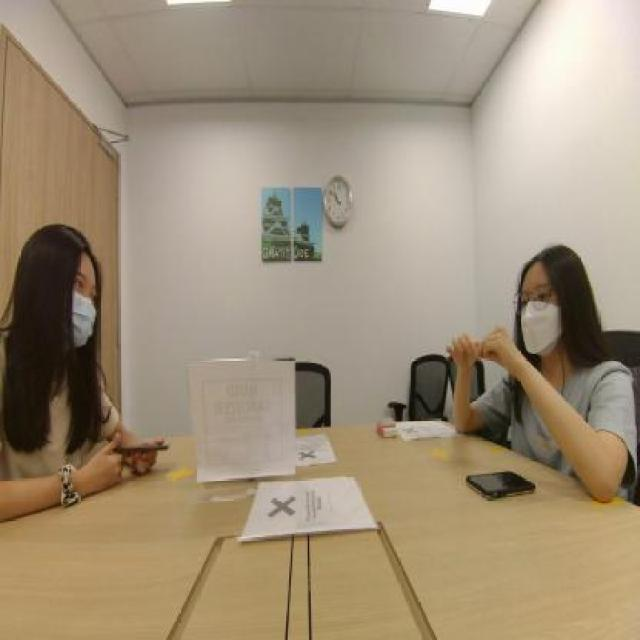Person: (6, 150, 125, 438), (471, 201, 609, 424)
